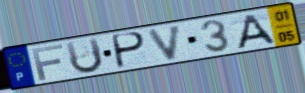3: (200, 18, 232, 56)
A: (235, 13, 278, 51)
F: (30, 43, 66, 82)
P: (112, 31, 148, 70)
U: (63, 36, 105, 76)
V: (146, 22, 185, 62)
